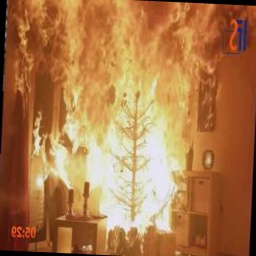fire: (12, 0, 256, 243)
